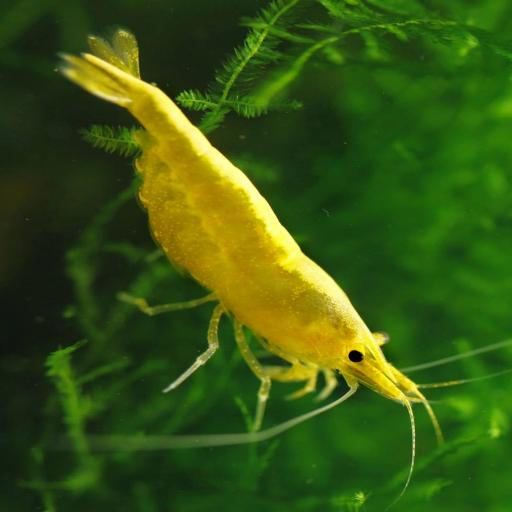Shrimp: (39, 23, 504, 504)
